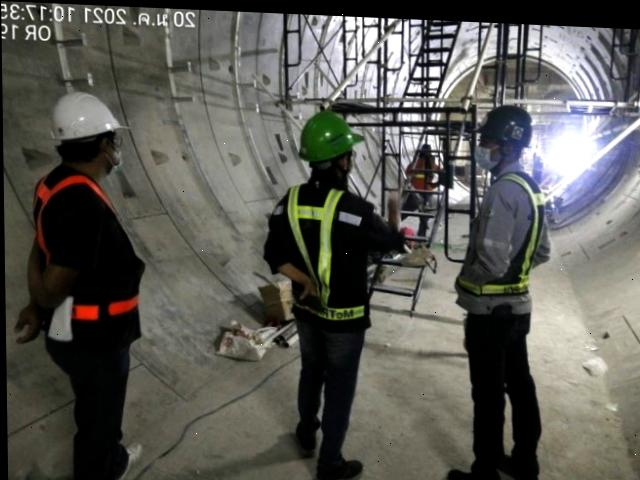helmet: (47, 88, 126, 144), (293, 105, 366, 160), (471, 100, 529, 141)
vest: (27, 170, 135, 314), (276, 177, 371, 316), (455, 167, 538, 290), (409, 152, 433, 190)
